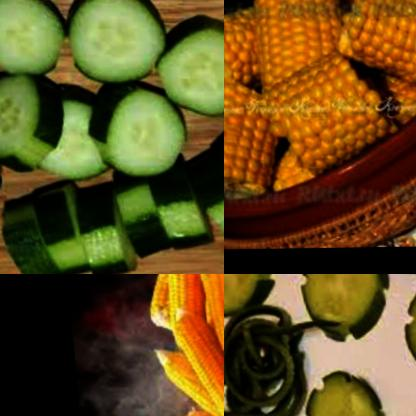corn: (250, 47, 395, 161), (245, 0, 360, 73), (159, 298, 224, 416), (330, 0, 416, 86), (224, 72, 278, 195), (127, 274, 224, 331), (143, 343, 216, 416), (224, 4, 273, 87), (185, 274, 224, 365), (159, 274, 206, 344)
cucumber: (1, 184, 129, 274), (104, 171, 224, 266), (84, 85, 187, 183), (18, 88, 112, 190), (63, 0, 168, 90), (151, 18, 224, 132), (0, 68, 65, 178), (285, 274, 385, 343), (0, 0, 72, 86), (294, 375, 391, 416), (224, 274, 285, 324), (392, 277, 416, 383)
